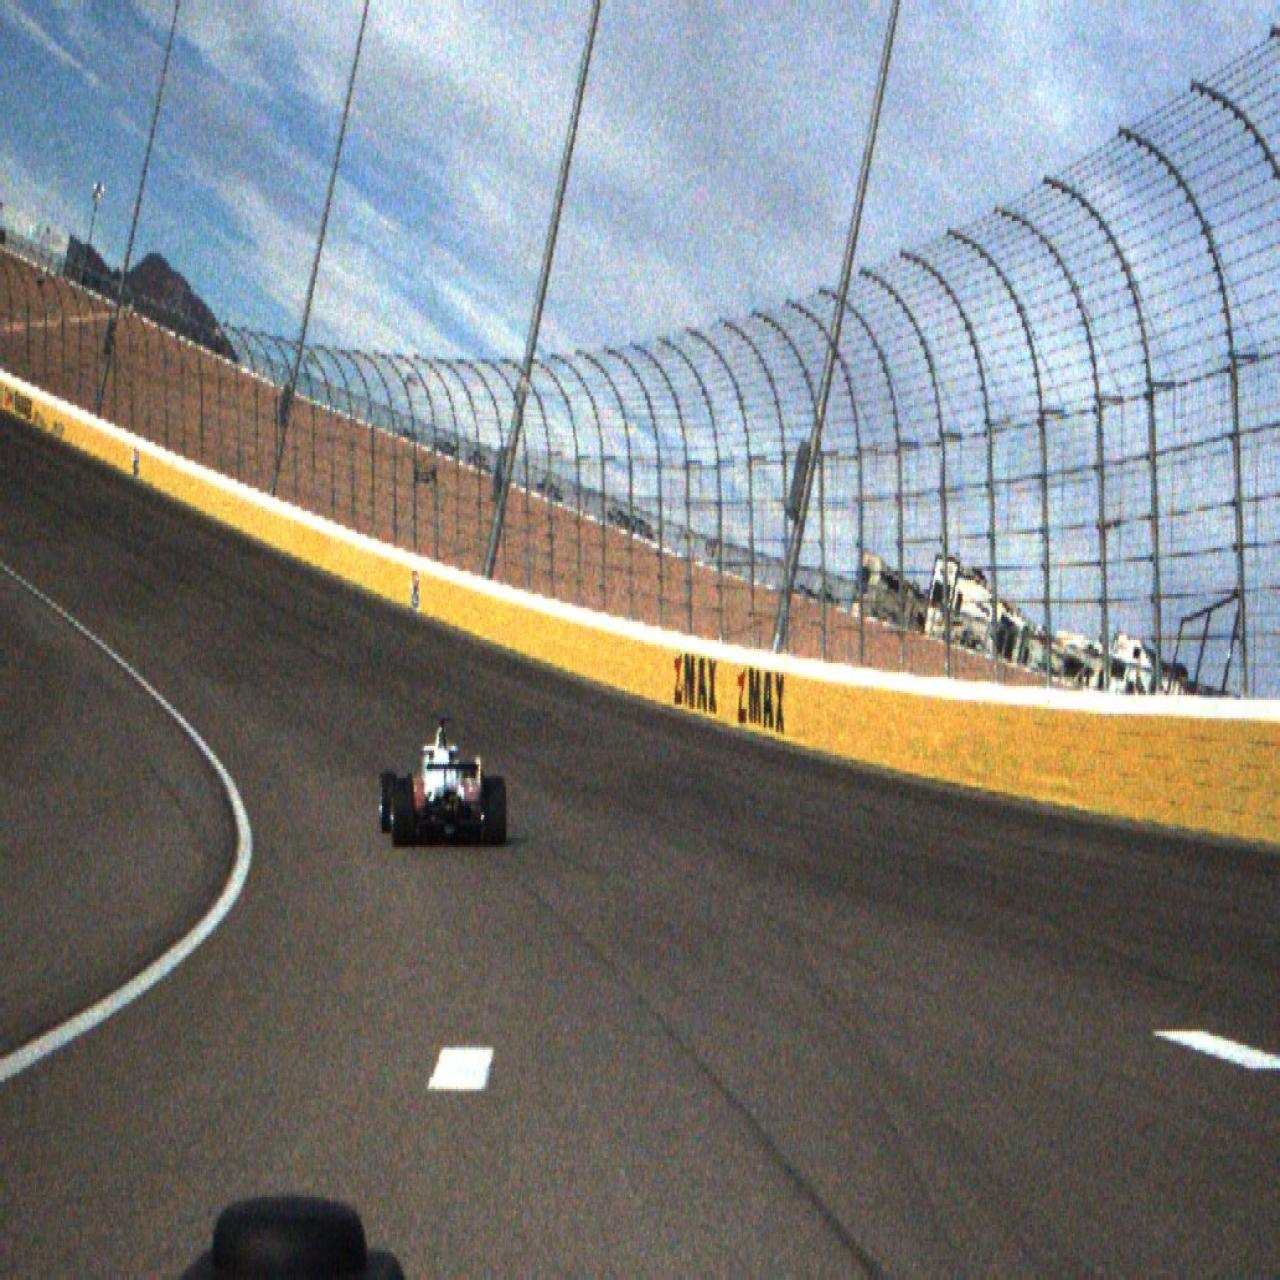AV: (379, 715, 506, 848)
Wheel: (484, 776, 506, 847), (391, 780, 414, 847), (379, 772, 398, 834)
